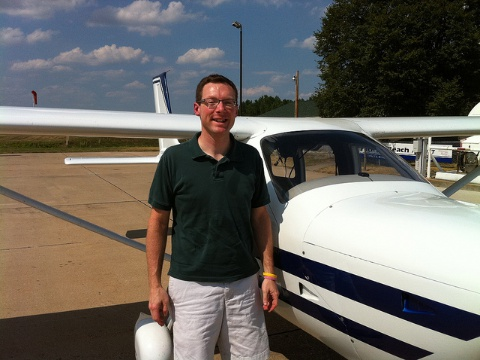hand: (149, 286, 172, 327), (262, 278, 279, 313)
